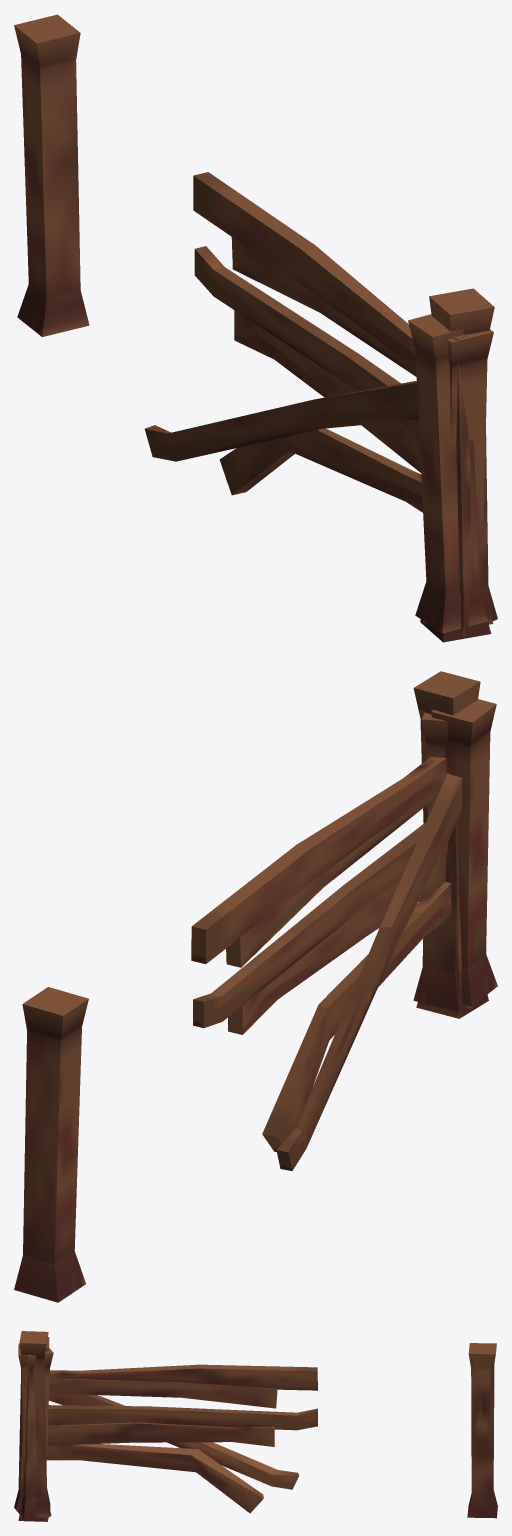
The model's file is fences.glb.
3 views of the same model, one above another, from view 1: azimuth 30°, elevation 25°; view 2: azimuth 150°, elevation 25°; view 3: azimuth 270°, elevation 25° (orthographic). The views are drawn at different scales.
Visible parts, largest first — view 1: wooden_fence_2, wooden_fence_gate, wooden_fence_1, wooden_fence_3; view 2: wooden_fence_2, wooden_fence_1, wooden_fence_gate, wooden_fence_3; view 3: wooden_fence_1, wooden_fence_3, wooden_fence_2, wooden_fence_gate.
Boxes of the visible parts, x1,y1,x2,y2 form: wooden_fence_2: (144, 314, 488, 633); wooden_fence_gate: (14, 14, 494, 642); wooden_fence_1: (193, 172, 493, 634); wooden_fence_3: (231, 237, 497, 635); wooden_fence_2: (262, 699, 497, 1171); wooden_fence_1: (191, 710, 462, 1028); wooden_fence_gate: (14, 671, 488, 1302); wooden_fence_3: (226, 712, 472, 1034); wooden_fence_1: (18, 1344, 317, 1517); wooden_fence_3: (14, 1345, 277, 1519); wooden_fence_2: (16, 1337, 299, 1513); wooden_fence_gate: (18, 1331, 497, 1521).
Size of the model in its own units: 0.3848 by 1.16 by 2.81.
Materials: 1 (1 with a texture image).
